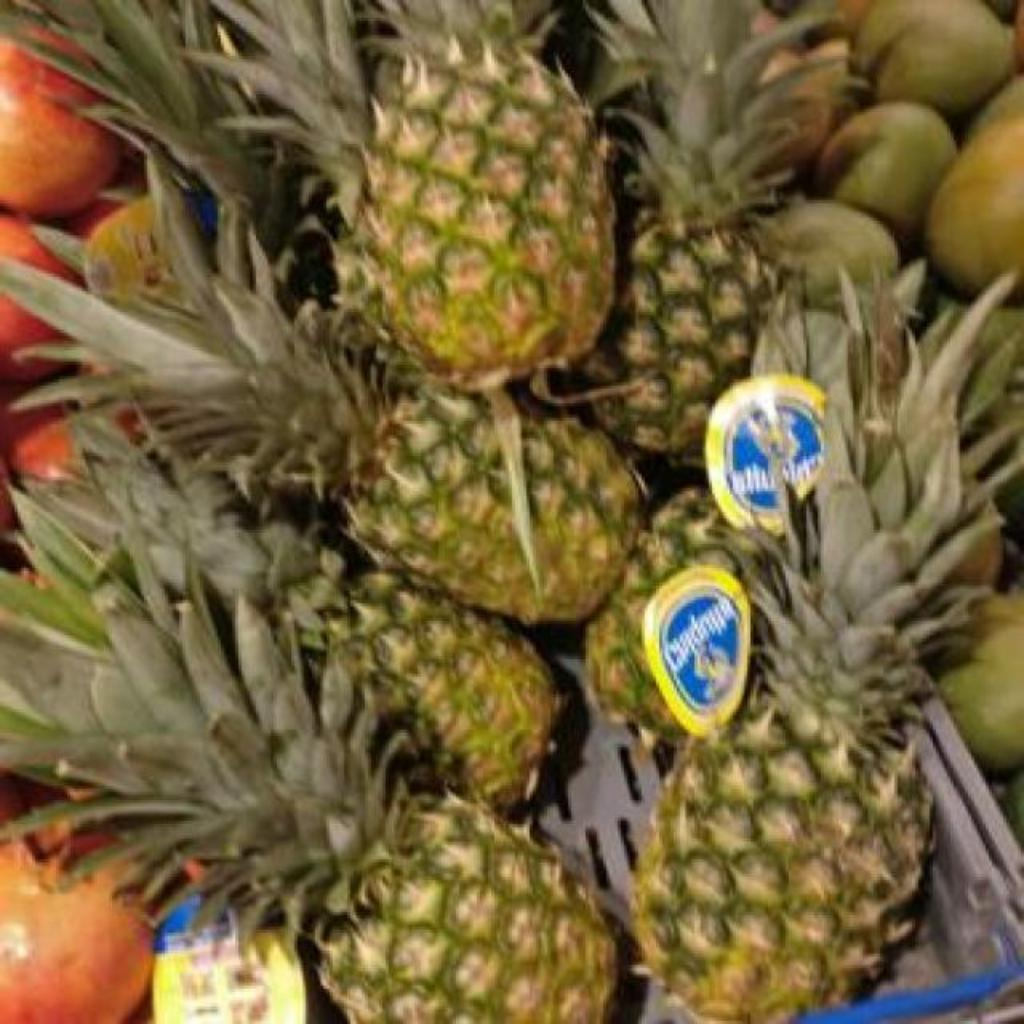pineapple: (0, 418, 612, 1024), (634, 288, 1005, 1024), (0, 272, 638, 621), (0, 440, 558, 807), (358, 2, 614, 591), (588, 0, 860, 459), (586, 292, 844, 736)
